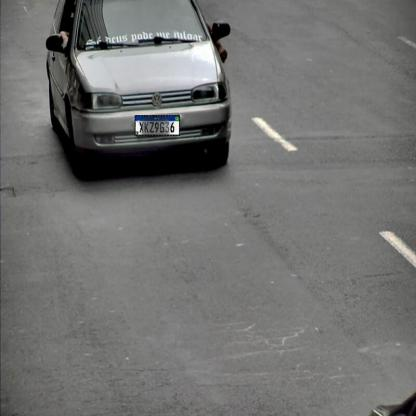PlacaM: (135, 115, 180, 136)
